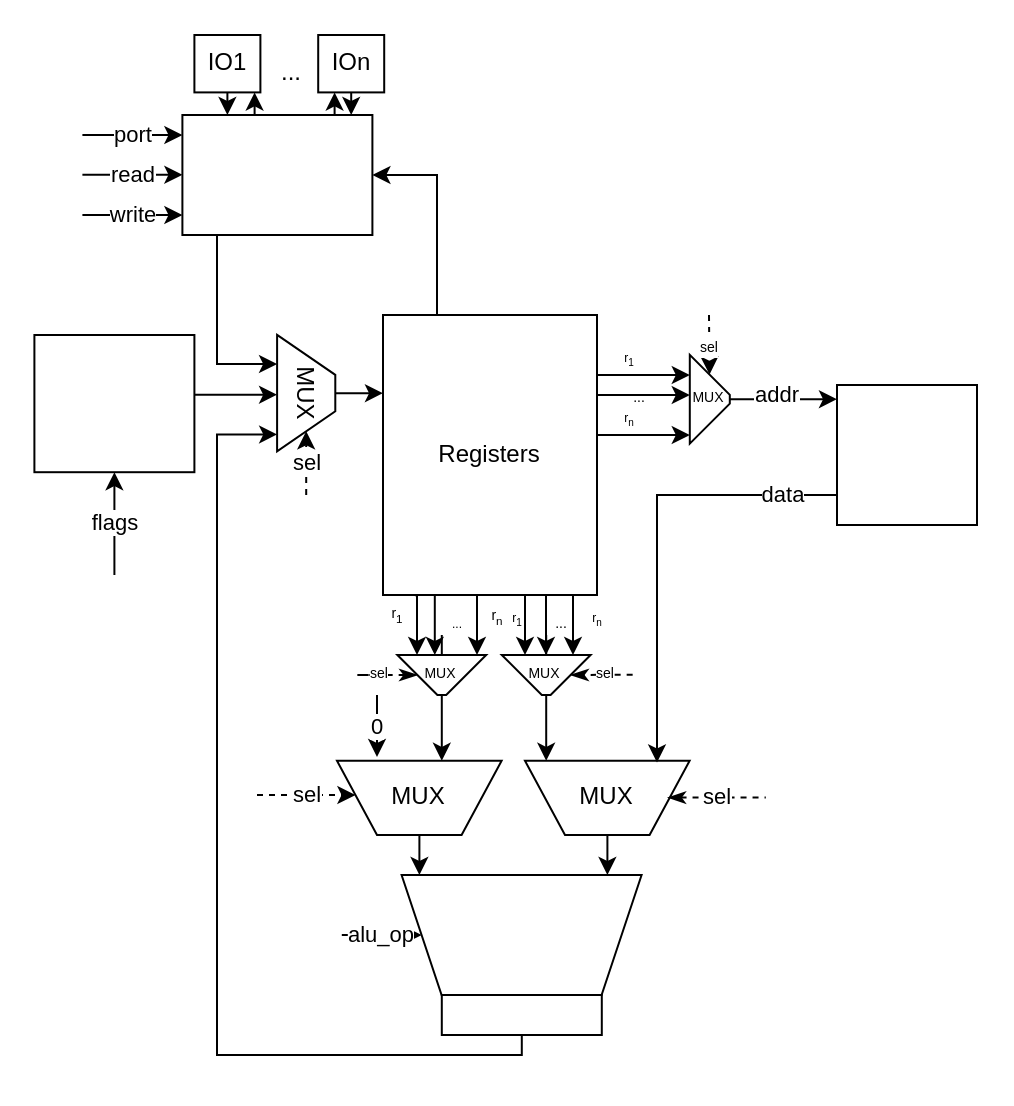
This 1014x1106 diagram has some shape labels left out. The shapes that lost their labels are listed below. From the top down, each one's box as (x1, y1, x2, y2) in pixels, then its label:
(180, 113, 372, 235): IOC
(32, 333, 194, 472): CU
(835, 383, 977, 525): DataMem
(400, 873, 642, 995): ALU
(440, 993, 602, 1035): NZVC
